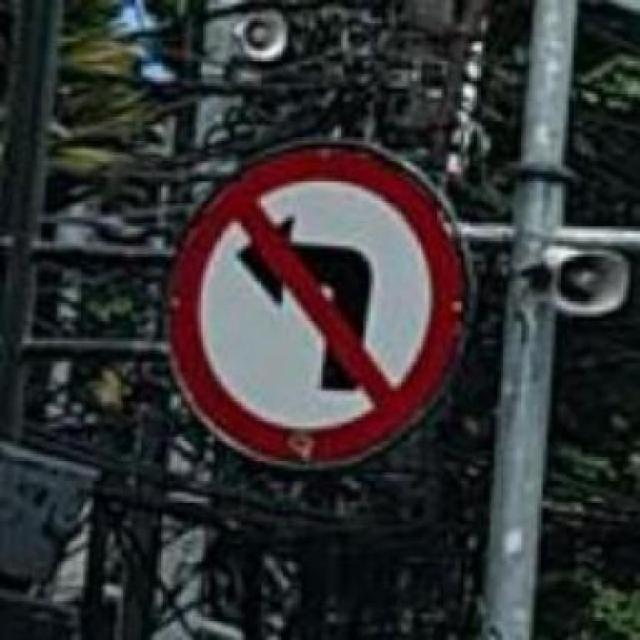left turn prohibited: (156, 130, 480, 476)
